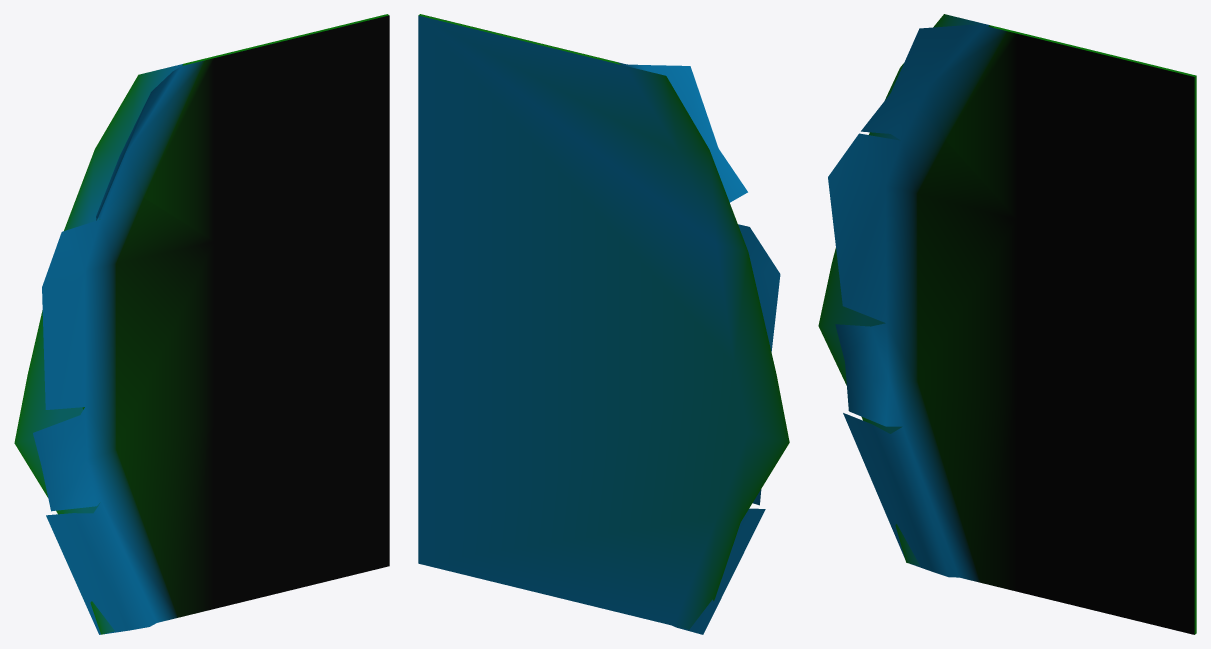
File: DBK_Drywall_Side_C_Single_Mirror.fbx
3 views of the same model, side by side, from view 1: azimuth 30°, elevation 25°; view 2: azimuth 150°, elevation 25°; view 3: azimuth 330°, elevation 25° (orthographic).
Parts seen in each view (by area): view 1: DBK_Drywall_Side_C_Single_Mirror; view 2: DBK_Drywall_Side_C_Single_Mirror; view 3: DBK_Drywall_Side_C_Single_Mirror.
Part boxes in pixels (left/top/right/bottom): DBK_Drywall_Side_C_Single_Mirror: left=14, top=14, right=389, bottom=634; DBK_Drywall_Side_C_Single_Mirror: left=418, top=14, right=789, bottom=634; DBK_Drywall_Side_C_Single_Mirror: left=818, top=14, right=1196, bottom=634.
Size of what is drawn, in the model's own units: 213 by 301 by 21.05.
